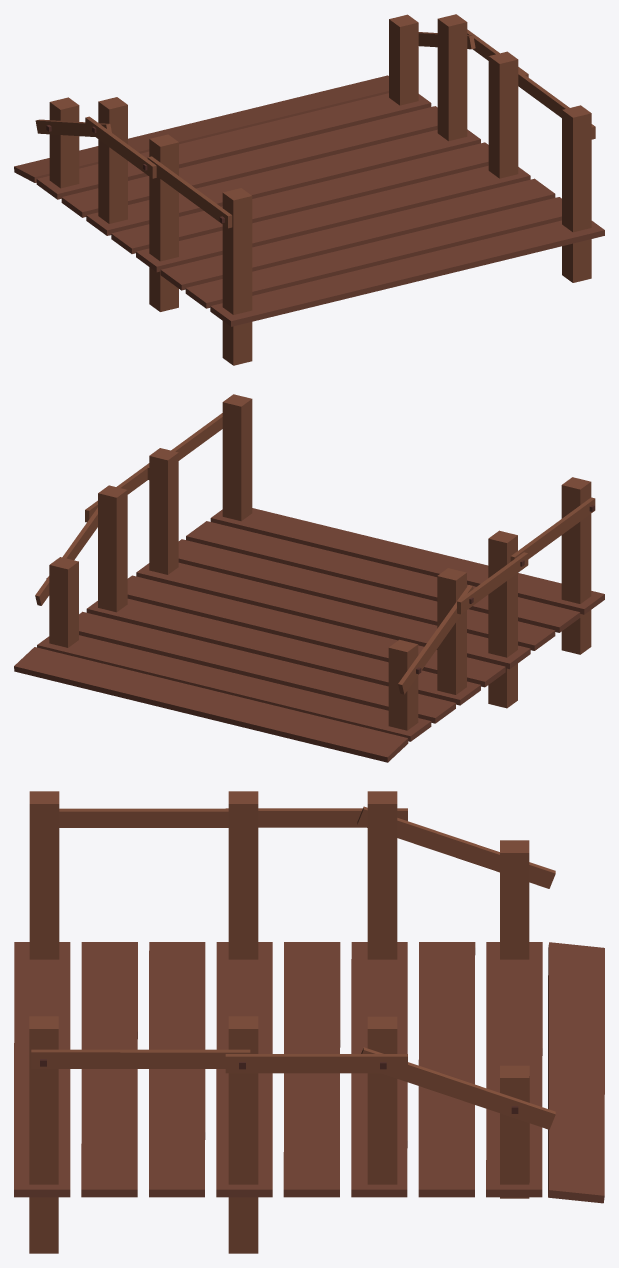
File: fishing_stage.fbx
The picture shows the model from 3 angles, top to bottom: view 1: azimuth 30°, elevation 25°; view 2: azimuth 150°, elevation 25°; view 3: azimuth 270°, elevation 25°; orthographic projection. The views are drawn at different scales.
Parts seen in each view (by area): view 1: bridge.001, railings.001; view 2: bridge.001, railings.001; view 3: bridge.001, railings.001.
Part boxes in pixels (bbox=[...]): bridge.001: bbox=[14, 75, 604, 326]; railings.001: bbox=[35, 14, 595, 365]; bridge.001: bbox=[14, 508, 604, 762]; railings.001: bbox=[35, 394, 595, 730]; bridge.001: bbox=[14, 942, 604, 1203]; railings.001: bbox=[29, 791, 555, 1253].
Bounding box in the file's own units: 197 × 82.01 × 195.
